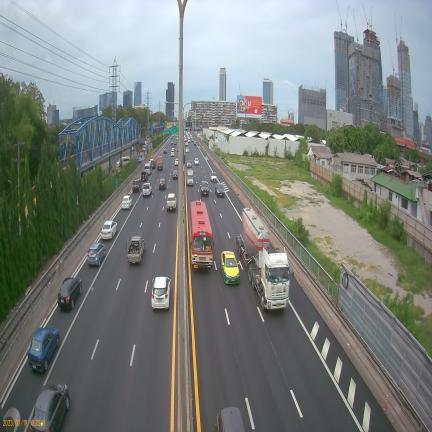bus: (190, 201, 213, 268)
car: (28, 381, 70, 432), (28, 327, 59, 371), (57, 278, 82, 310), (214, 407, 245, 432), (151, 276, 171, 309), (87, 243, 105, 266), (101, 220, 117, 240), (166, 193, 177, 211), (142, 182, 152, 197), (215, 183, 225, 197), (122, 195, 132, 209), (200, 181, 209, 196), (159, 178, 166, 190), (141, 170, 148, 182), (210, 171, 217, 182), (172, 170, 178, 179), (187, 160, 192, 168), (194, 158, 199, 165), (175, 158, 179, 165)
taxi: (220, 251, 240, 284)
truck: (236, 208, 290, 310), (127, 232, 145, 263), (187, 168, 194, 186), (157, 157, 163, 171)
van: (132, 178, 141, 192), (145, 162, 152, 176)
